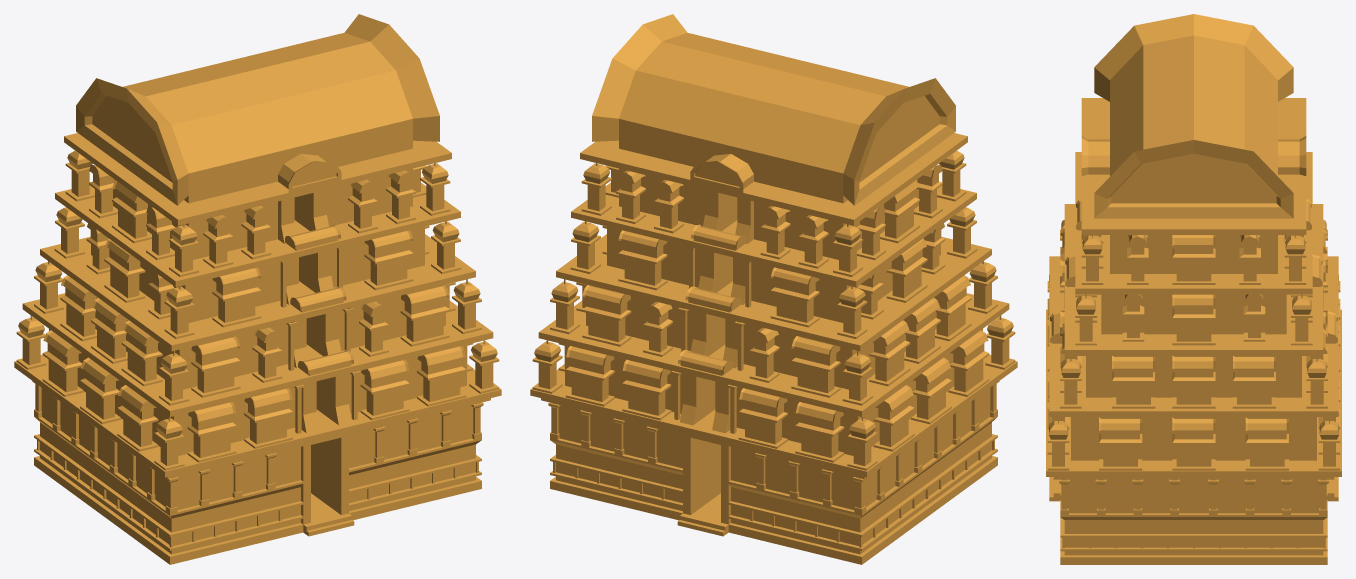
Rendered from temple-gopuram.fbx.
3 views of the same model, side by side, from view 1: azimuth 30°, elevation 25°; view 2: azimuth 150°, elevation 25°; view 3: azimuth 270°, elevation 25° (orthographic).
Parts seen in each view (by area): view 1: temple-gopuram; view 2: temple-gopuram; view 3: temple-gopuram.
Part boxes in pixels (box(x1,y1,x2,y2)): temple-gopuram: box(14, 14, 501, 564); temple-gopuram: box(530, 14, 1017, 564); temple-gopuram: box(1046, 14, 1341, 564).
Bounding box in the file's own units: 17.71 × 21.13 × 13.71.
